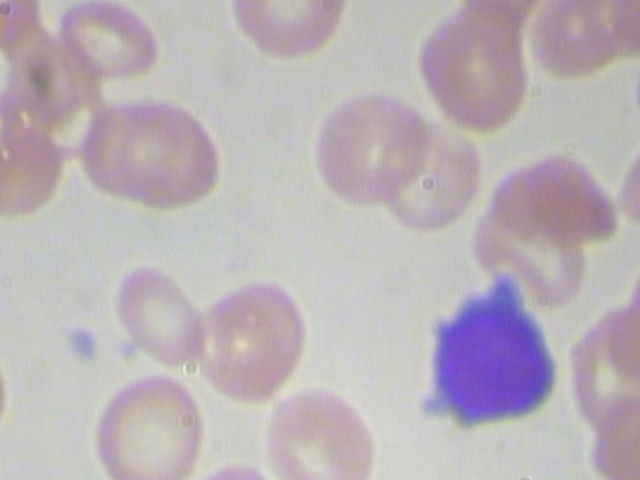RBC: (413, 6, 540, 132), (188, 273, 309, 403), (111, 91, 232, 221), (314, 84, 434, 214), (487, 132, 622, 246), (368, 109, 486, 233), (91, 366, 212, 480), (261, 383, 382, 480), (112, 258, 205, 365), (55, 0, 173, 81), (235, 0, 349, 68), (182, 461, 308, 480)
WBC: (399, 267, 576, 443)
